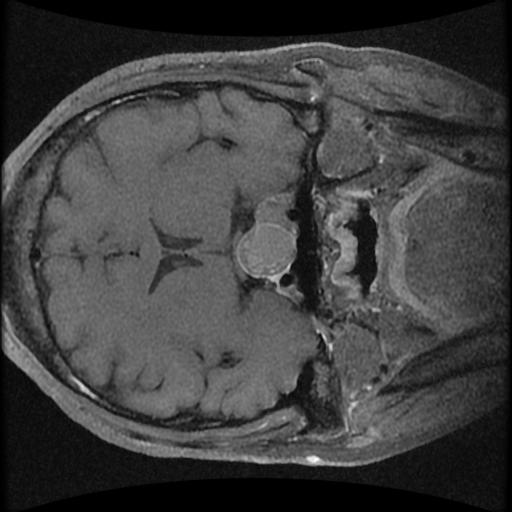pituitary tumour: (236, 193, 297, 279)
